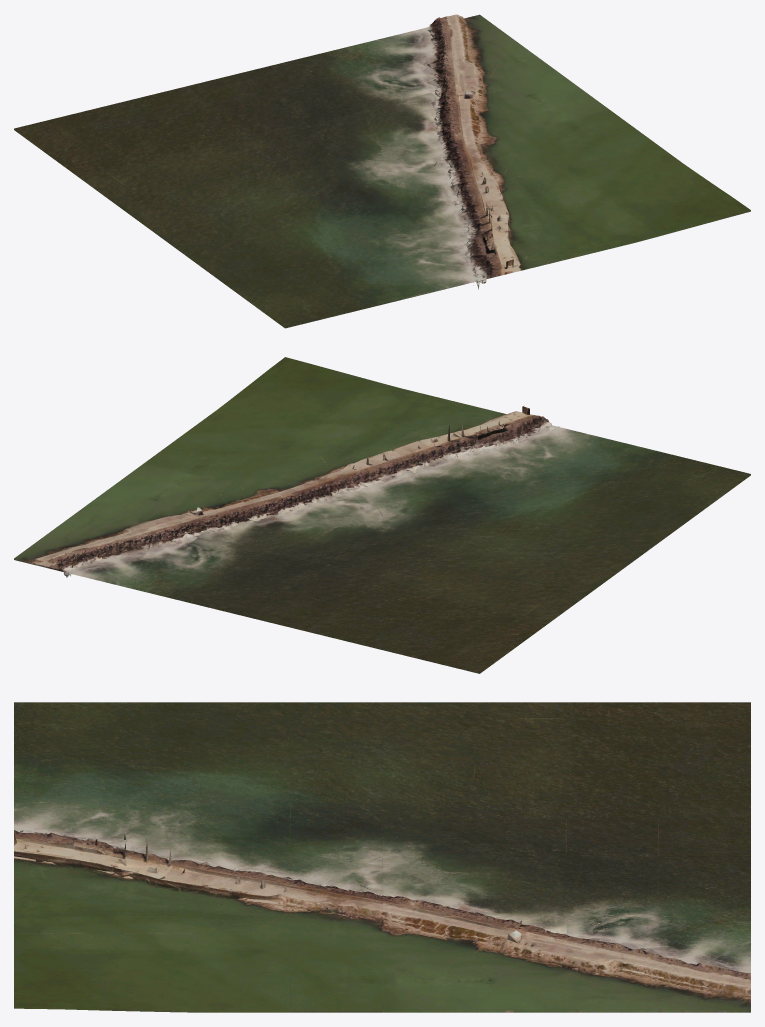
Rendered from bacia_porto_sudeste.glb.
3 views of the same model, one above another, from view 1: azimuth 30°, elevation 25°; view 2: azimuth 150°, elevation 25°; view 3: azimuth 270°, elevation 25° (orthographic). The views are drawn at different scales.
Visible parts, largest first — view 1: bacia_porto_sudeste; view 2: bacia_porto_sudeste; view 3: bacia_porto_sudeste.
Boxes of the visible parts, bbox=[...] form: bacia_porto_sudeste: bbox=[14, 14, 750, 328]; bacia_porto_sudeste: bbox=[14, 357, 750, 673]; bacia_porto_sudeste: bbox=[14, 702, 750, 1012].
Size of the model in its own units: 305 by 23.38 by 307.
1 material, 1 textured.
